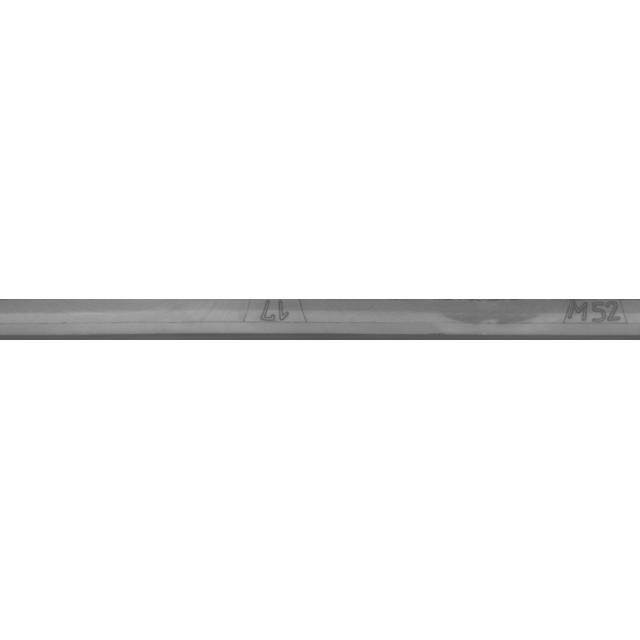mohao: (501, 270, 640, 370)
xuehao: (169, 270, 369, 370)
